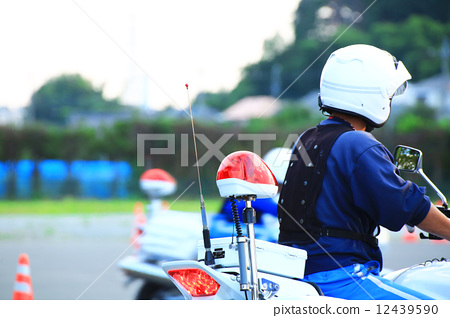helmet: (319, 42, 403, 116)
